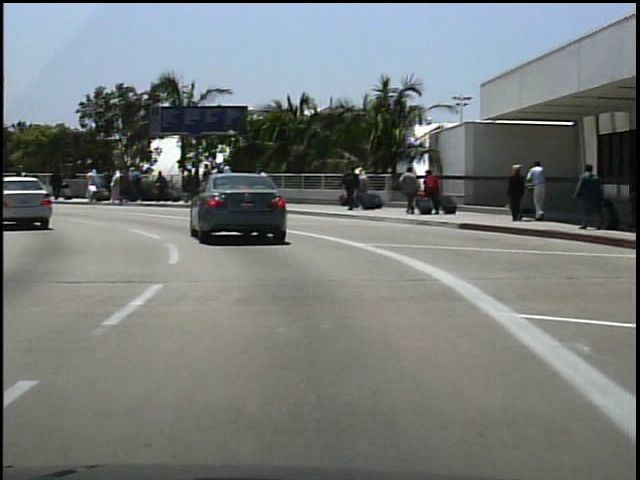person: (572, 161, 606, 231), (528, 157, 552, 227), (505, 161, 529, 223), (397, 163, 421, 217), (341, 165, 362, 213), (423, 165, 442, 212), (36, 167, 58, 203), (52, 165, 68, 201), (17, 165, 30, 200), (638, 157, 639, 229)
